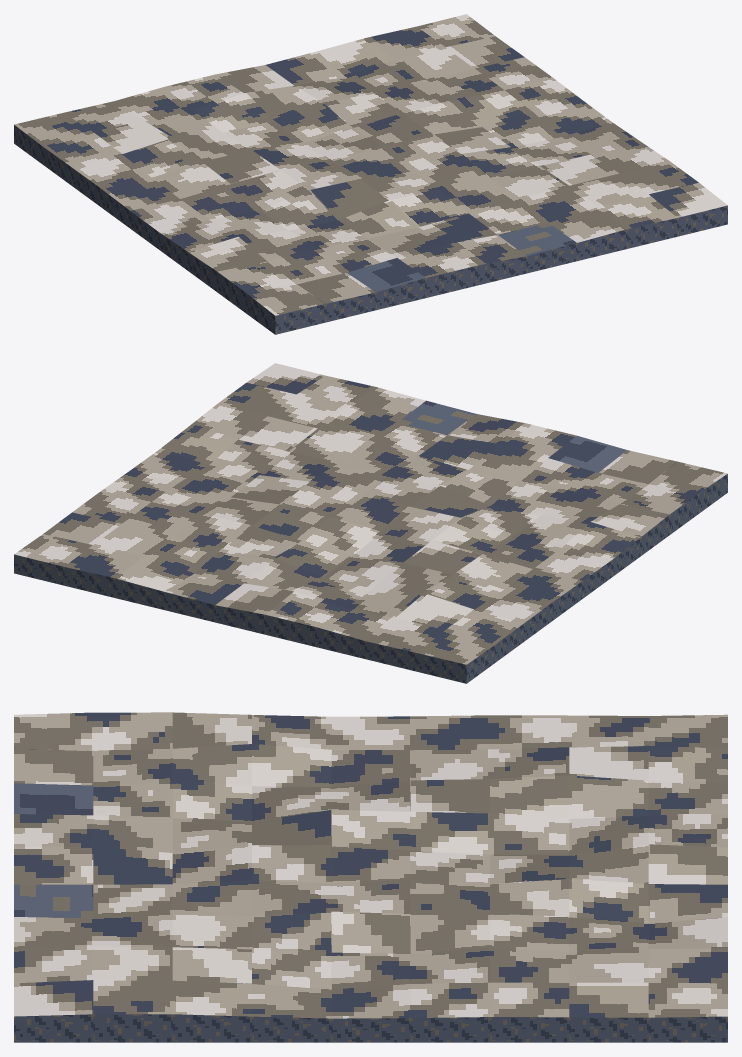
File: TER-06_Arenal_de_conchas_c.gltf
3 renders of one model, top to bottom at view 1: azimuth 30°, elevation 25°; view 2: azimuth 150°, elevation 25°; view 3: azimuth 270°, elevation 25°, orthographic. The views are drawn at different scales.
Visible parts, largest first — view 1: TER-06_Arenal_de_conchas_c-col; view 2: TER-06_Arenal_de_conchas_c-col; view 3: TER-06_Arenal_de_conchas_c-col.
Part boxes in pixels (x1,y1,x2,y2): TER-06_Arenal_de_conchas_c-col: (14,14,727,334); TER-06_Arenal_de_conchas_c-col: (14,363,727,683); TER-06_Arenal_de_conchas_c-col: (14,712,727,1042).
Size of the model in its own units: 4 by 0.2 by 4.
Materials: 1 (1 with a texture image).
